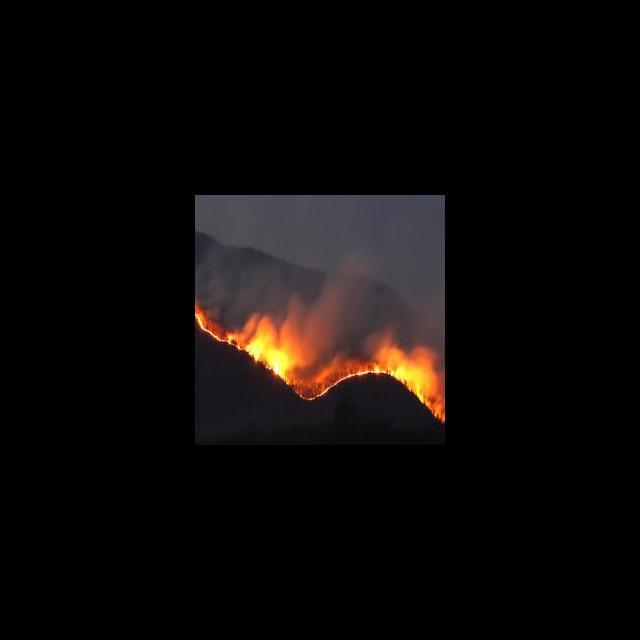Fire: (198, 309, 444, 423)
